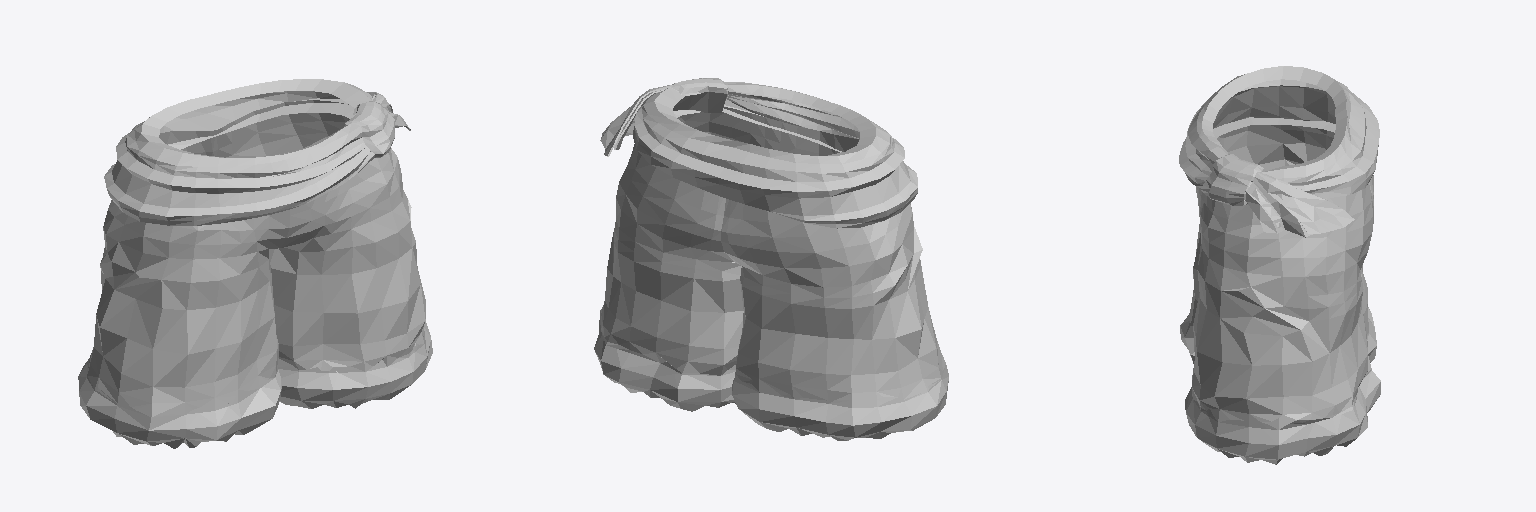
The model's file is luffy_shorts.obj.
3 views of the same model, side by side, from view 1: azimuth 30°, elevation 25°; view 2: azimuth 150°, elevation 25°; view 3: azimuth 270°, elevation 25° (orthographic).
Parts seen in each view (by area): view 1: polySurface2; view 2: polySurface2; view 3: polySurface2.
Boxes of the visible parts, x1,y1,x2,y2 form: polySurface2: [78, 79, 432, 448]; polySurface2: [594, 78, 948, 440]; polySurface2: [1179, 66, 1380, 464].
Bounding box in the file's own units: 0.2099 × 0.1657 × 0.1084.